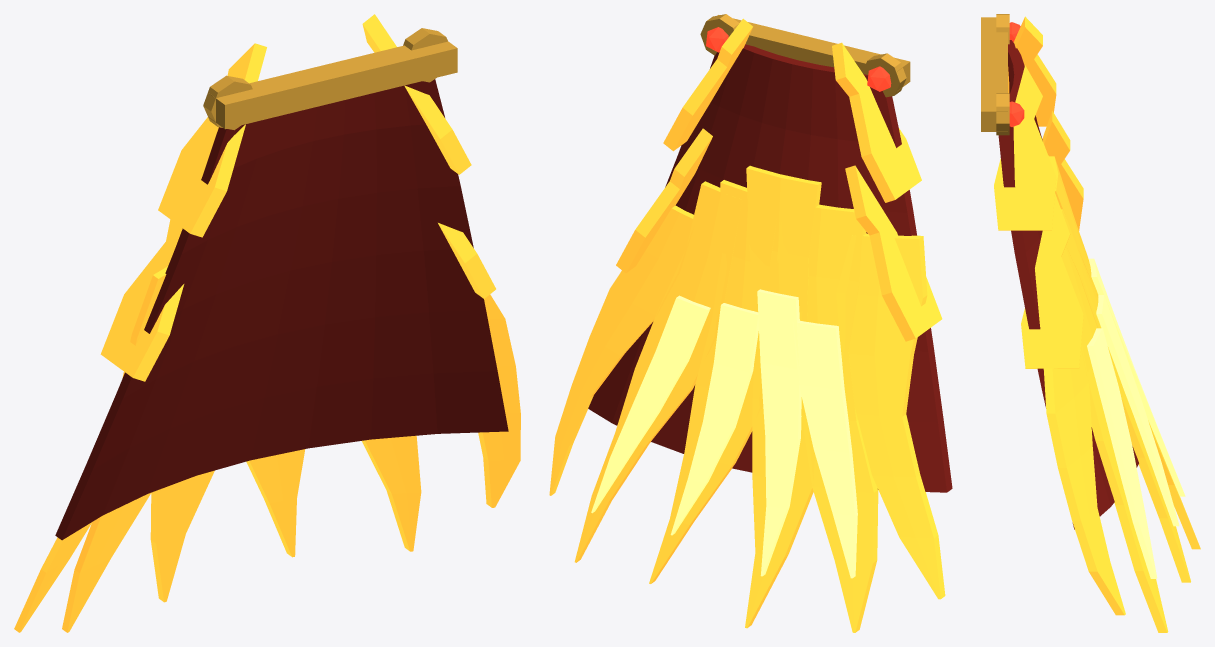
The model's file is S4_Fire_Cape.fbx.
3 views of the same model, side by side, from view 1: azimuth 30°, elevation 25°; view 2: azimuth 150°, elevation 25°; view 3: azimuth 270°, elevation 25° (orthographic). The views are drawn at different scales.
Visible parts, largest first — view 1: S4_Fire_Cape; view 2: S4_Fire_Cape; view 3: S4_Fire_Cape.
Boxes of the visible parts, x1=… form: S4_Fire_Cape: x1=14, y1=14, x2=520, y2=632; S4_Fire_Cape: x1=549, y1=14, x2=952, y2=632; S4_Fire_Cape: x1=981, y1=14, x2=1200, y2=632.
Bounding box in the file's own units: 1.04 × 1.3 × 0.4918.
